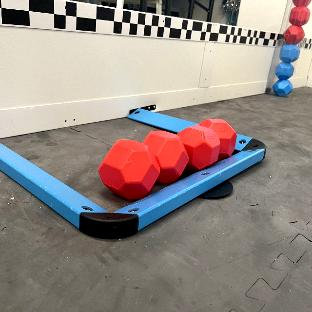Parking - B: (0, 136, 265, 238)
V5_BLUE: (273, 44, 298, 96)
V5_RED: (99, 123, 232, 198), (290, 0, 312, 25), (284, 23, 304, 43)
